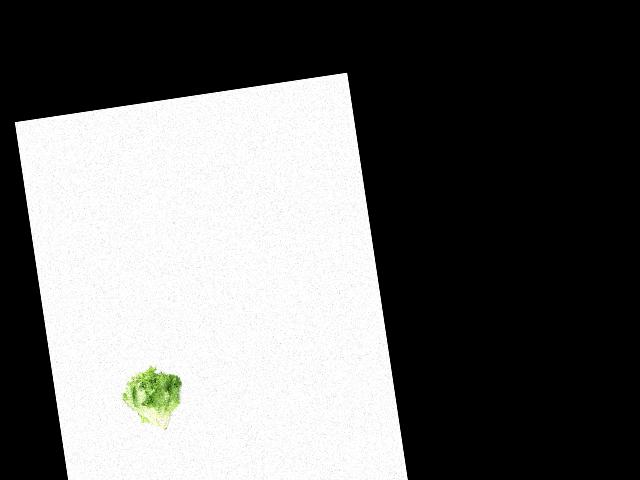lettuce: (116, 363, 189, 436)
